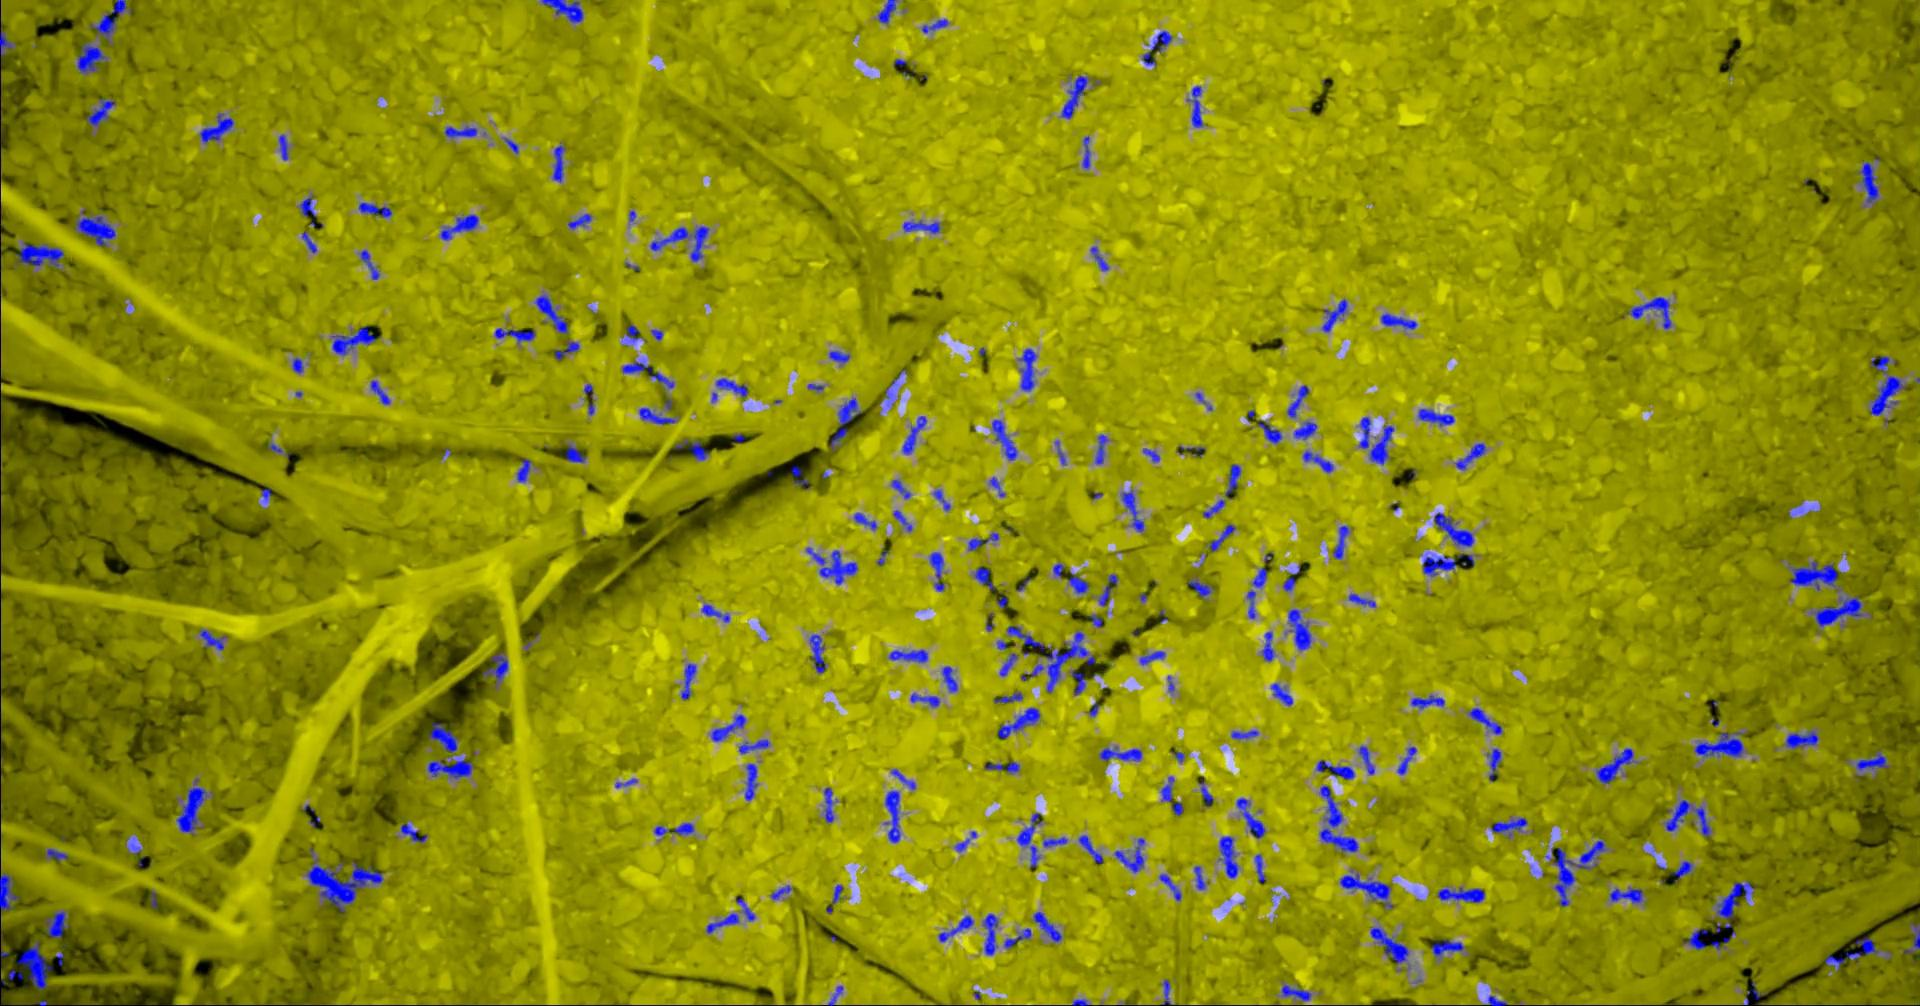ant: (1022, 631, 1097, 692), (1547, 840, 1608, 906), (1321, 785, 1360, 851), (1717, 882, 1755, 936), (651, 226, 711, 260), (177, 779, 213, 833), (1341, 873, 1396, 908), (808, 546, 858, 584), (1826, 935, 1879, 970), (830, 398, 863, 451), (18, 940, 53, 989), (1666, 799, 1712, 836), (1360, 417, 1396, 464), (1815, 596, 1864, 626), (91, 0, 128, 41), (1870, 375, 1907, 415), (1790, 560, 1839, 589), (77, 210, 117, 245), (1435, 512, 1476, 546), (623, 361, 676, 387), (1597, 747, 1636, 782), (1371, 927, 1410, 963), (1018, 812, 1043, 868), (1630, 296, 1672, 328), (998, 708, 1041, 738), (18, 241, 65, 268), (537, 293, 569, 333), (333, 326, 377, 354), (1697, 730, 1745, 756), (1062, 75, 1090, 118), (1423, 553, 1476, 575), (1238, 796, 1266, 838), (1008, 625, 1051, 652), (201, 113, 235, 144), (442, 213, 480, 240), (1116, 838, 1145, 873), (993, 419, 1018, 459), (1123, 489, 1145, 531), (483, 652, 509, 687), (940, 915, 975, 941), (1289, 608, 1312, 649), (429, 758, 475, 779), (904, 415, 928, 453), (712, 714, 747, 741), (542, 0, 584, 22), (1162, 776, 1185, 815), (1470, 708, 1503, 734), (79, 42, 107, 72), (430, 721, 458, 752), (1, 873, 22, 915), (1035, 911, 1063, 941), (1323, 298, 1349, 332), (88, 98, 117, 126), (1220, 836, 1239, 878), (886, 790, 902, 842), (1457, 443, 1487, 469), (1317, 760, 1356, 779), (1492, 817, 1529, 837), (1862, 161, 1879, 202), (1439, 887, 1486, 902), (1021, 348, 1037, 391), (717, 379, 750, 400), (1289, 384, 1310, 417), (676, 439, 710, 460), (1304, 450, 1335, 473), (1189, 85, 1205, 127), (1211, 525, 1237, 551), (44, 911, 70, 937), (1079, 835, 1103, 862), (1418, 408, 1455, 426), (640, 406, 677, 424), (1858, 749, 1890, 770), (709, 913, 740, 934), (984, 913, 999, 955), (1432, 939, 1465, 958), (361, 249, 381, 279), (497, 326, 537, 342), (1098, 574, 1119, 605), (1161, 874, 1183, 901), (1382, 312, 1418, 329), (811, 634, 827, 673), (1787, 730, 1820, 748), (931, 553, 946, 591), (201, 627, 226, 650), (1225, 464, 1242, 498), (969, 532, 1001, 550), (1258, 420, 1283, 443), (682, 663, 697, 699), (1683, 929, 1709, 949), (1399, 746, 1418, 774), (1101, 747, 1143, 760), (1004, 929, 1032, 948), (1745, 981, 1766, 1005), (556, 339, 582, 359), (891, 768, 917, 789), (403, 822, 428, 842), (745, 763, 759, 800), (1335, 525, 1350, 558), (1611, 887, 1644, 902), (1905, 921, 1920, 954), (890, 649, 930, 662), (655, 822, 695, 835), (703, 605, 731, 622), (737, 895, 757, 920), (554, 142, 566, 180), (361, 202, 392, 217), (1189, 579, 1215, 597), (904, 220, 941, 232), (1272, 683, 1294, 705), (977, 567, 997, 589), (1283, 984, 1313, 1000), (1360, 746, 1377, 774), (1488, 748, 1502, 781), (372, 380, 391, 404), (792, 465, 811, 489), (1153, 30, 1173, 52), (1069, 572, 1090, 593), (1674, 860, 1694, 882), (879, 0, 898, 23), (1295, 420, 1318, 439), (1412, 695, 1446, 708), (1092, 246, 1110, 271), (1284, 567, 1302, 591), (740, 739, 771, 753), (446, 124, 479, 137), (1204, 499, 1225, 518), (912, 694, 941, 708), (1001, 653, 1018, 676), (943, 666, 959, 692), (985, 761, 1021, 772), (1, 22, 13, 56), (1200, 781, 1215, 807), (566, 445, 588, 462), (935, 489, 952, 511), (895, 509, 913, 531), (855, 512, 877, 528), (1350, 593, 1377, 607), (1096, 434, 1109, 464), (1263, 631, 1276, 661), (893, 479, 912, 498), (923, 18, 949, 32), (1073, 669, 1087, 695), (825, 788, 836, 822), (1872, 354, 1891, 372), (569, 213, 593, 227), (1142, 650, 1166, 664), (301, 196, 317, 216), (585, 384, 596, 415), (1178, 445, 1206, 456), (518, 459, 532, 481), (1256, 854, 1267, 882), (829, 984, 844, 1005), (1195, 865, 1208, 889), (990, 476, 1006, 495), (303, 231, 317, 251), (1255, 567, 1269, 587), (996, 692, 1023, 702), (772, 885, 792, 899), (279, 133, 290, 160), (1248, 589, 1257, 619), (1044, 836, 1069, 846), (1162, 979, 1172, 1005), (629, 324, 644, 340), (1084, 136, 1092, 168), (1232, 730, 1258, 739), (505, 137, 521, 152), (830, 351, 851, 362), (47, 848, 70, 859), (1713, 936, 1731, 949), (833, 884, 844, 903), (1144, 448, 1161, 461), (1144, 50, 1157, 65), (956, 838, 971, 851), (1490, 995, 1509, 1005), (1091, 614, 1103, 627), (1054, 563, 1065, 578), (9, 969, 24, 981), (295, 357, 303, 373)
